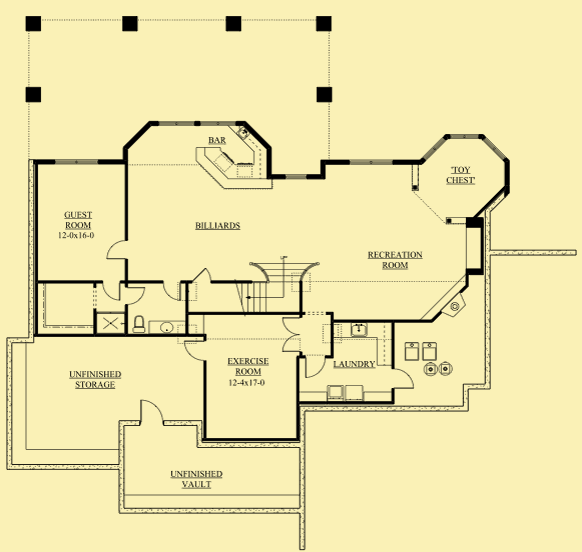door: (389, 365, 417, 395), (281, 317, 300, 356), (139, 398, 166, 424), (301, 355, 325, 380), (184, 339, 208, 363), (105, 237, 128, 261), (124, 285, 146, 308), (97, 280, 121, 301), (189, 266, 214, 286), (161, 280, 183, 302)
large_sink: (129, 313, 149, 333)
sink: (350, 324, 370, 337)
stairs: (232, 259, 318, 312)
window: (153, 117, 235, 129), (344, 156, 393, 166), (54, 157, 97, 165), (443, 132, 481, 141)
